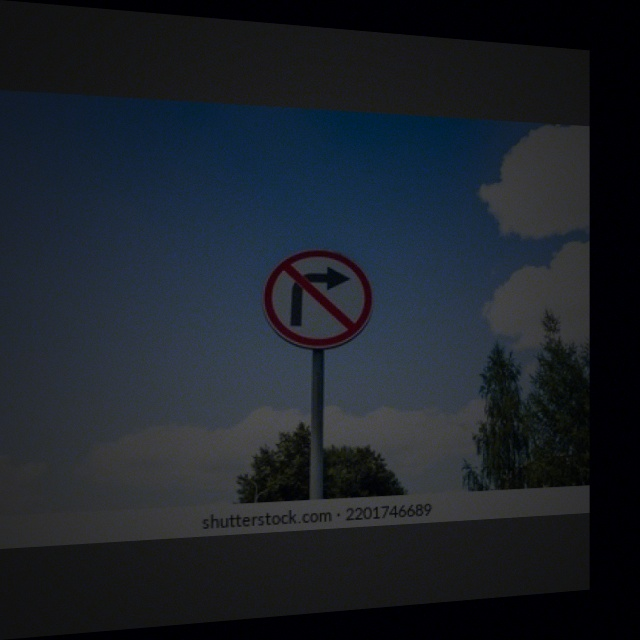Right_Turn_Prohibited: (263, 246, 373, 352)
